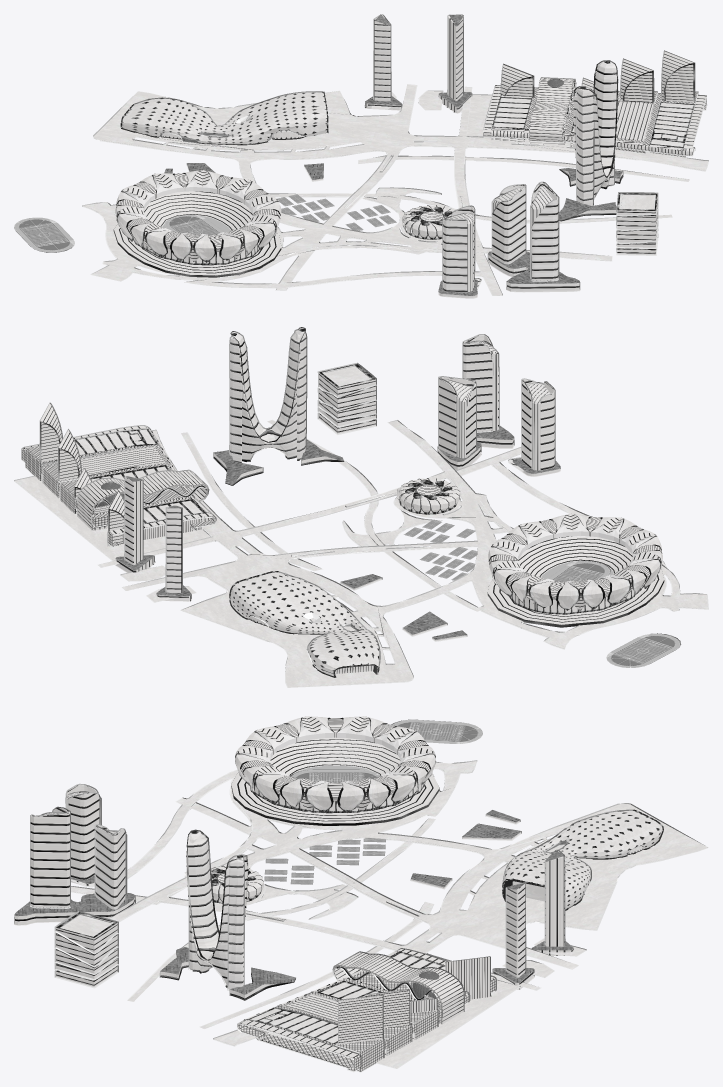
Rendered from SM_AoTi_Building60.glb.
3 renders of one model, top to bottom at view 1: azimuth 30°, elevation 25°; view 2: azimuth 150°, elevation 25°; view 3: azimuth 270°, elevation 25°, orthographic. The views are drawn at different scales.
Visible parts, largest first — view 1: jianzhu3; view 2: jianzhu3; view 3: jianzhu3.
Boxes of the visible parts, x1=… form: jianzhu3: x1=14, y1=14, x2=708, y2=298; jianzhu3: x1=14, y1=327, x2=708, y2=687; jianzhu3: x1=14, y1=716, x2=708, y2=1072.
Bounding box in the file's own units: 1481 × 291 × 1228.
5 materials, 4 textured.
